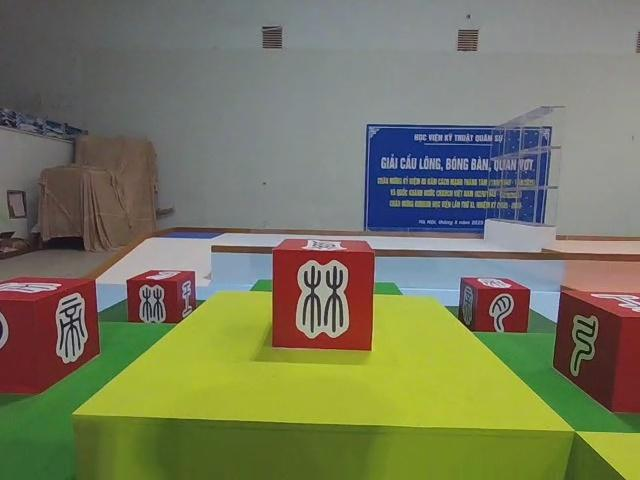R2 Fake: (269, 236, 379, 354), (0, 274, 99, 399), (551, 286, 640, 417), (456, 276, 534, 337), (123, 267, 198, 327)
